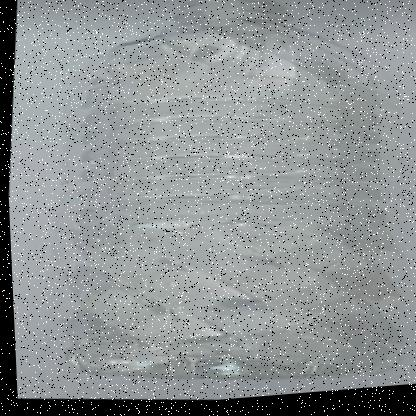open bottle: (32, 1, 416, 139)
